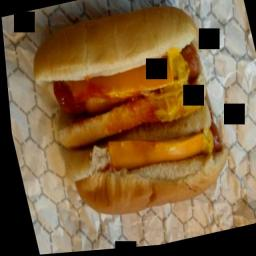hotdog: (46, 42, 205, 123), (180, 124, 228, 162)
